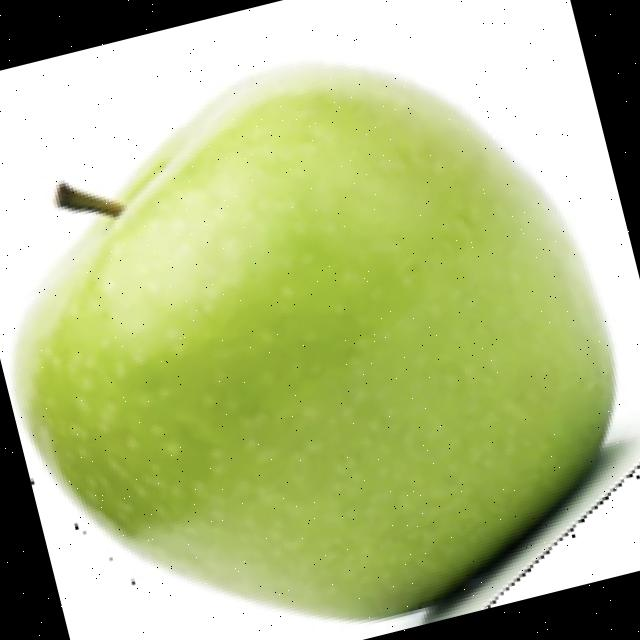apple: (5, 56, 640, 629)
